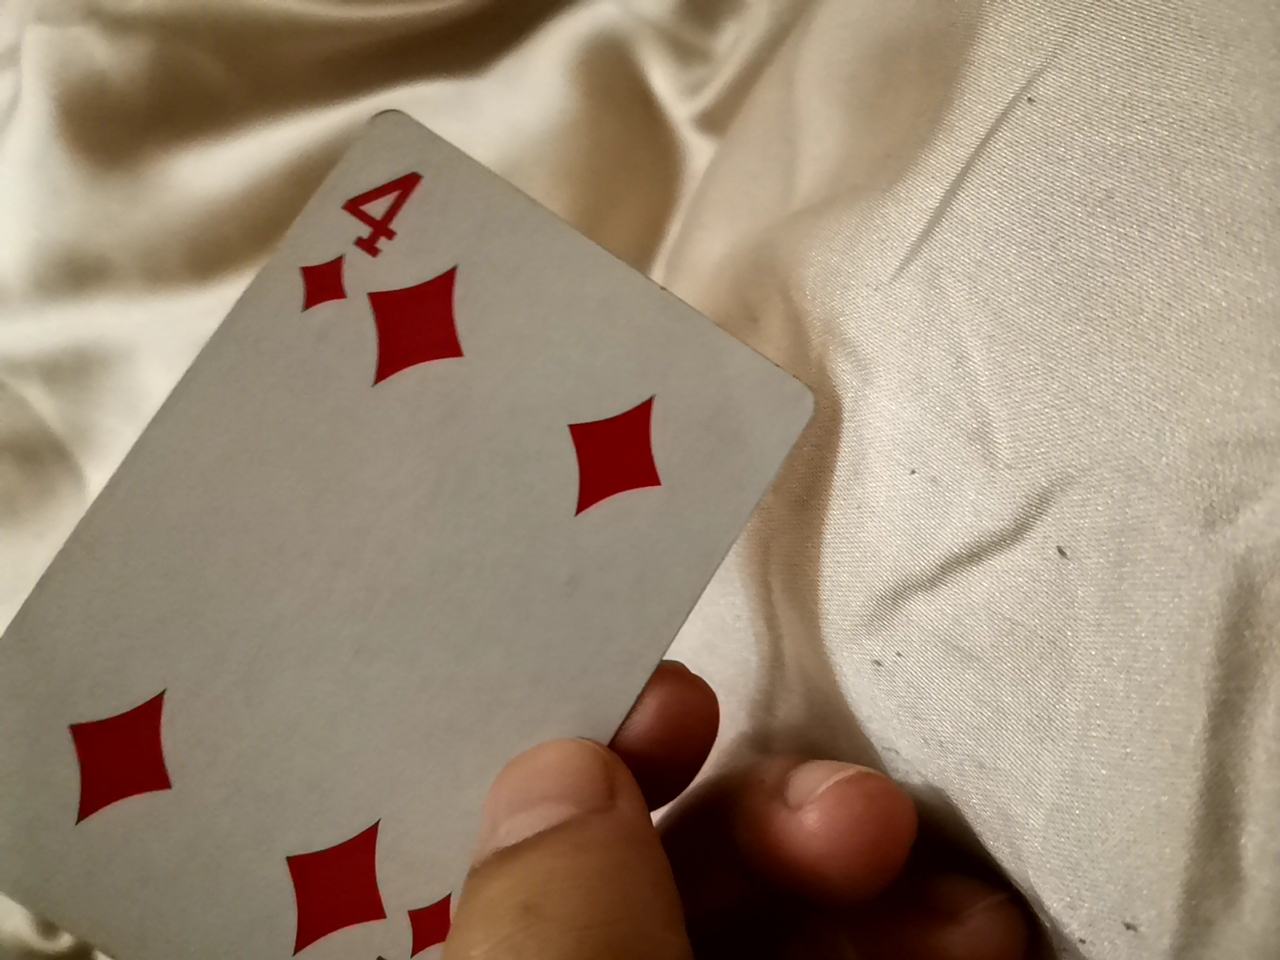fk 4: (6, 82, 864, 956)
